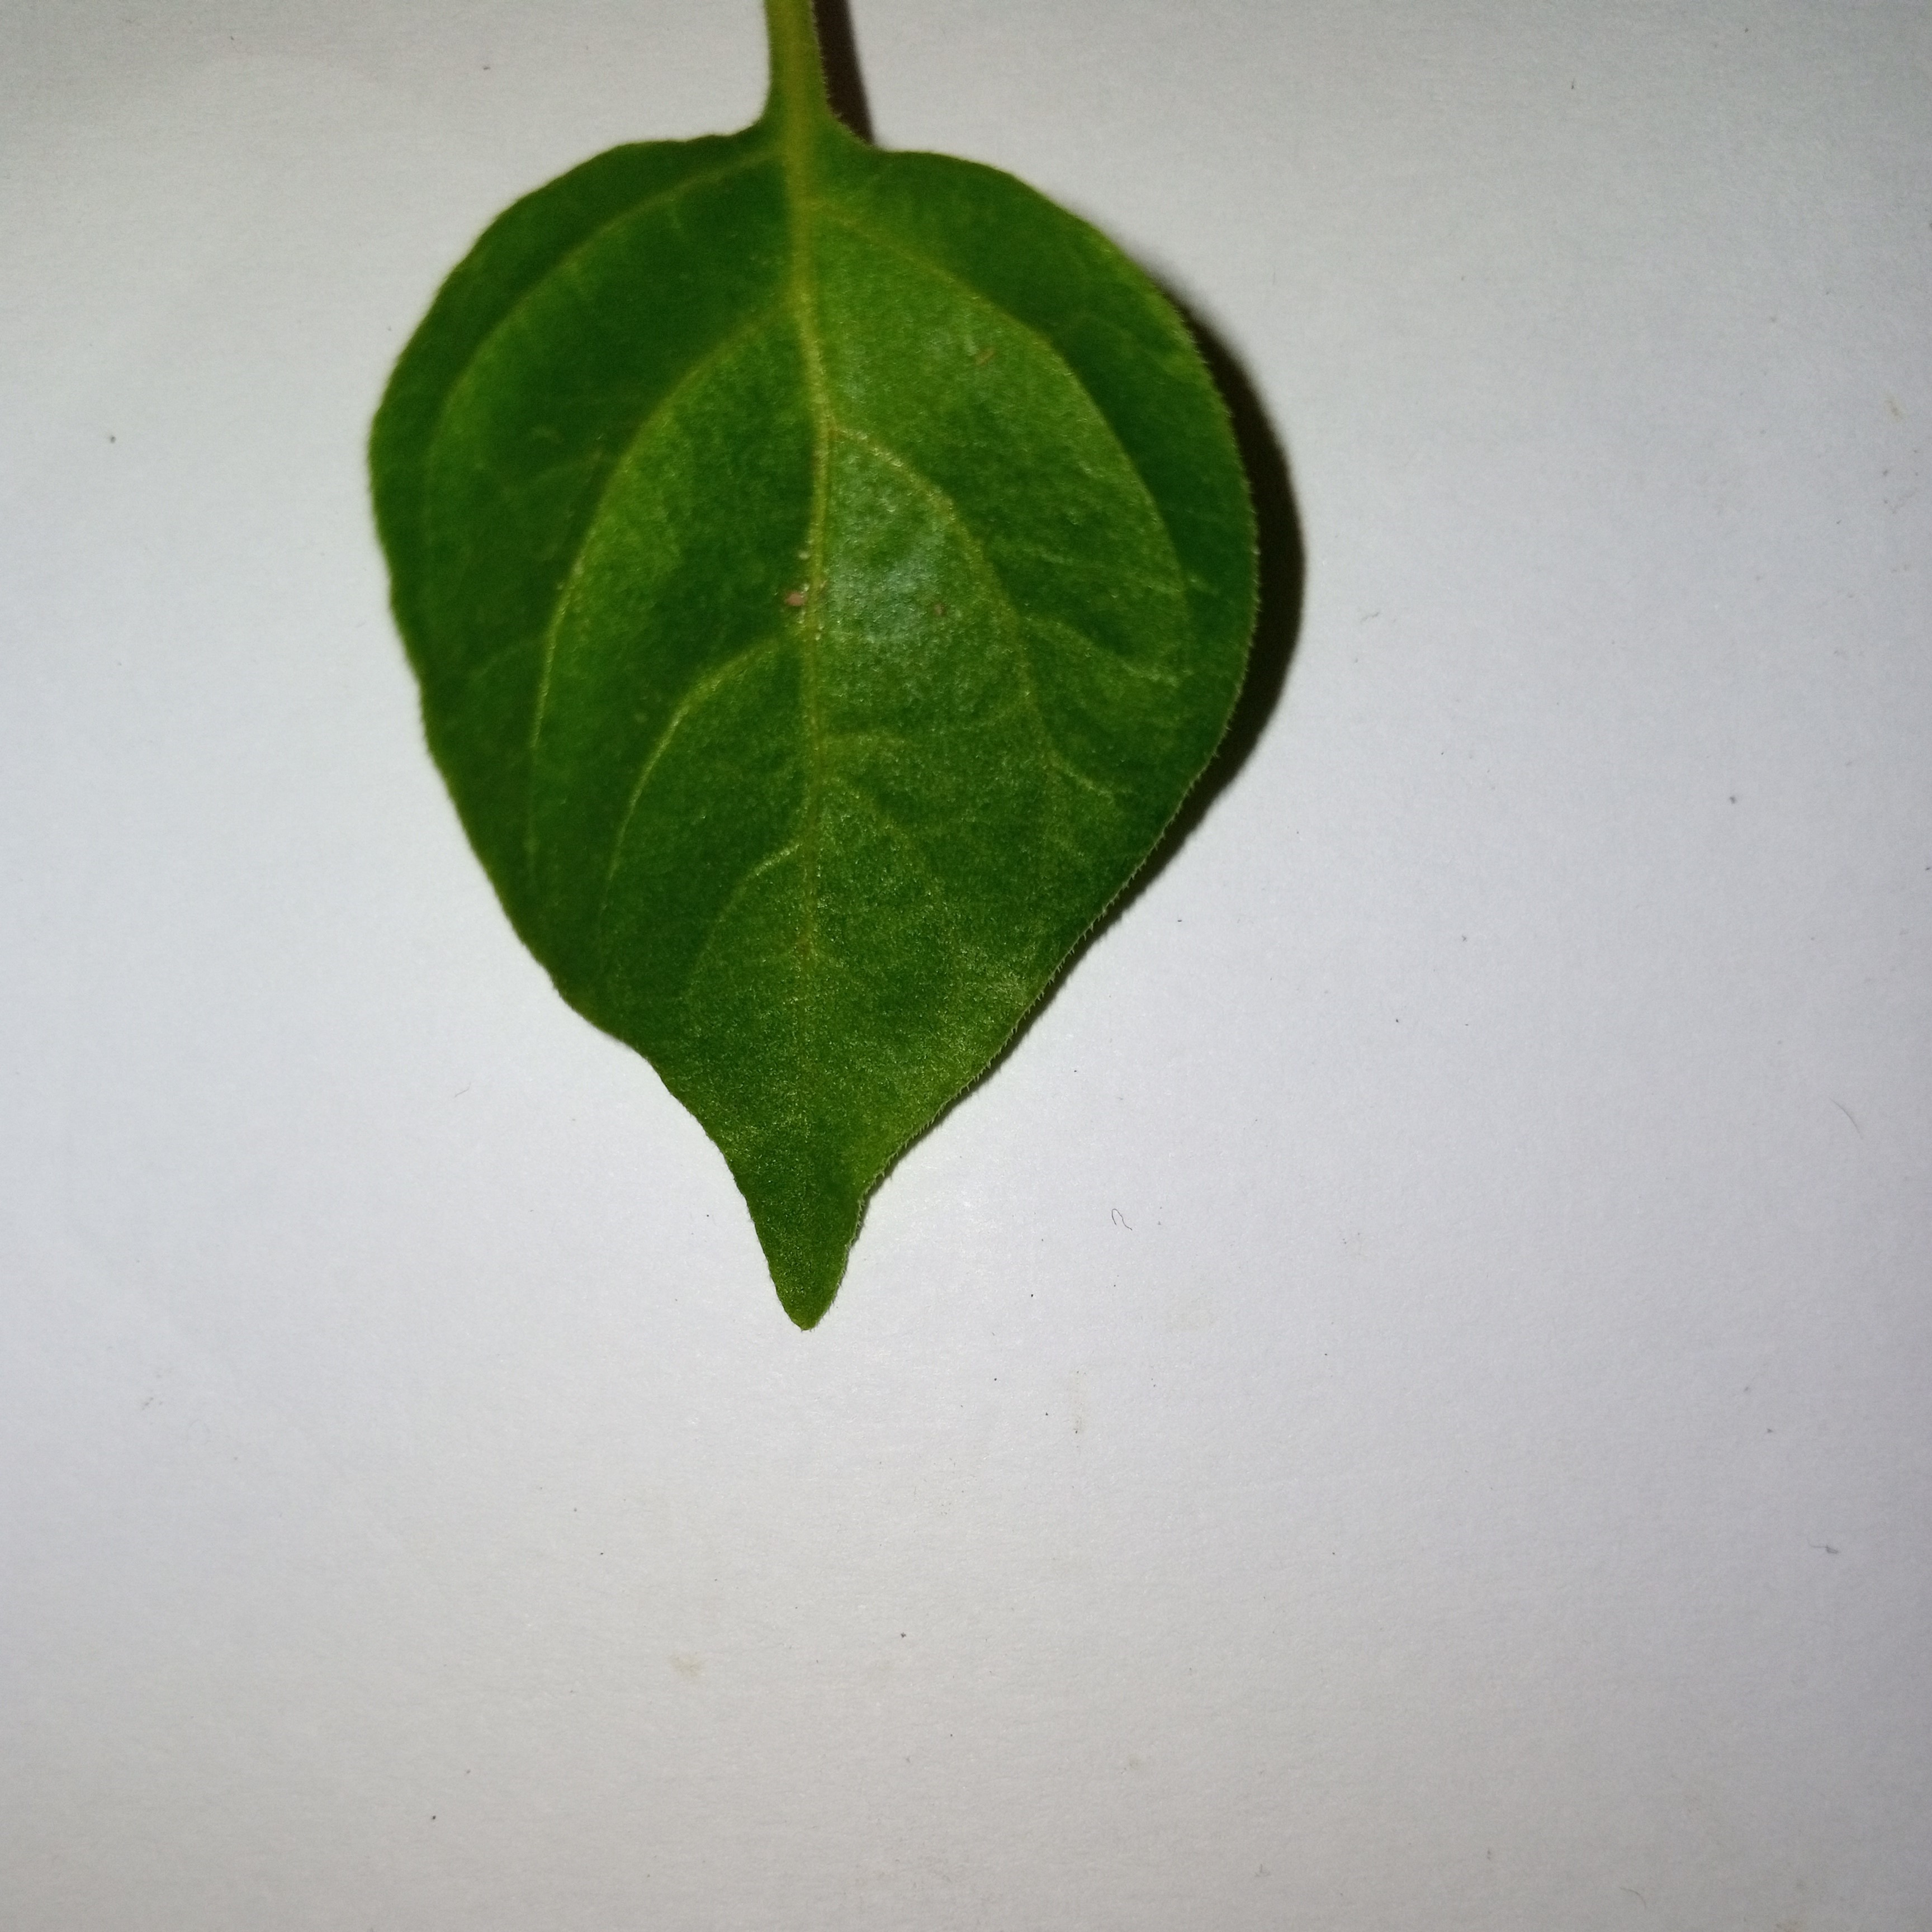Leaf: (248, 69, 1440, 1412)
